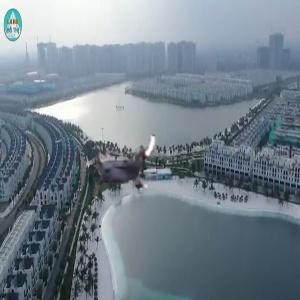drone: (80, 126, 166, 212)
